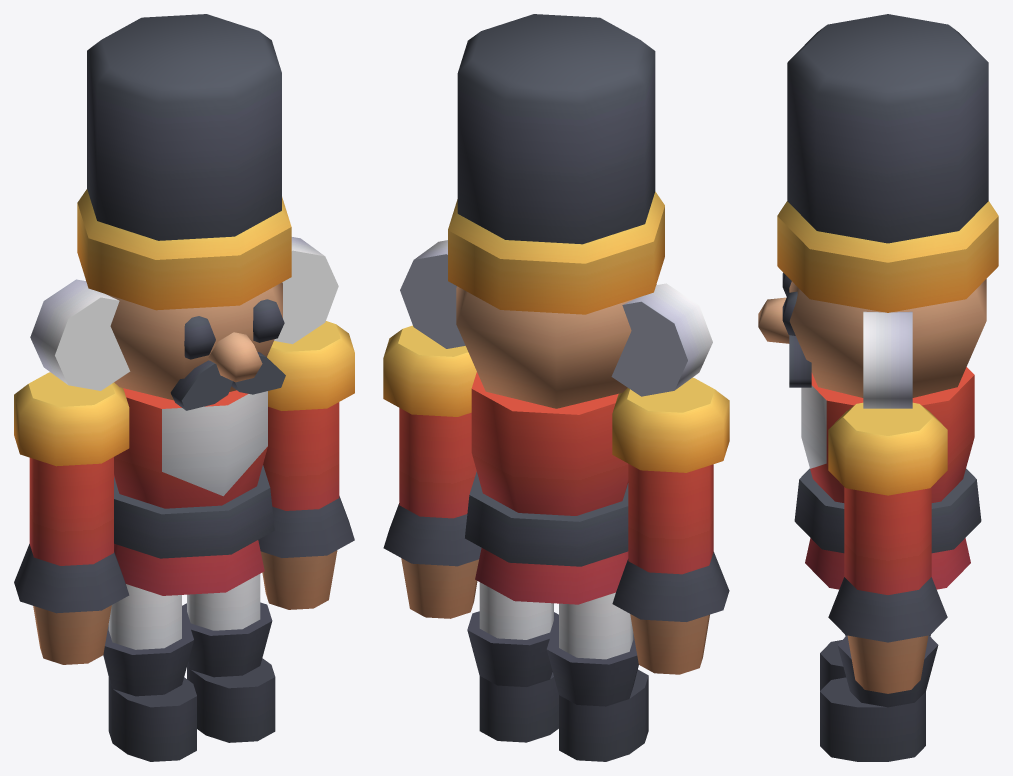
Rendered from k-holiday-nutcracker.glb.
3 views of the same model, side by side, from view 1: azimuth 30°, elevation 25°; view 2: azimuth 150°, elevation 25°; view 3: azimuth 270°, elevation 25° (orthographic).
Visible parts, largest first — view 1: nutcracker; view 2: nutcracker; view 3: nutcracker.
Part boxes in pixels (<box>): nutcracker: <box>14,14,354,761</box>; nutcracker: <box>383,14,729,761</box>; nutcracker: <box>758,14,998,761</box>.
Bounding box in the file's own units: 0.5485 × 1.08 × 0.3475.
Materials: 1 (1 with a texture image).
